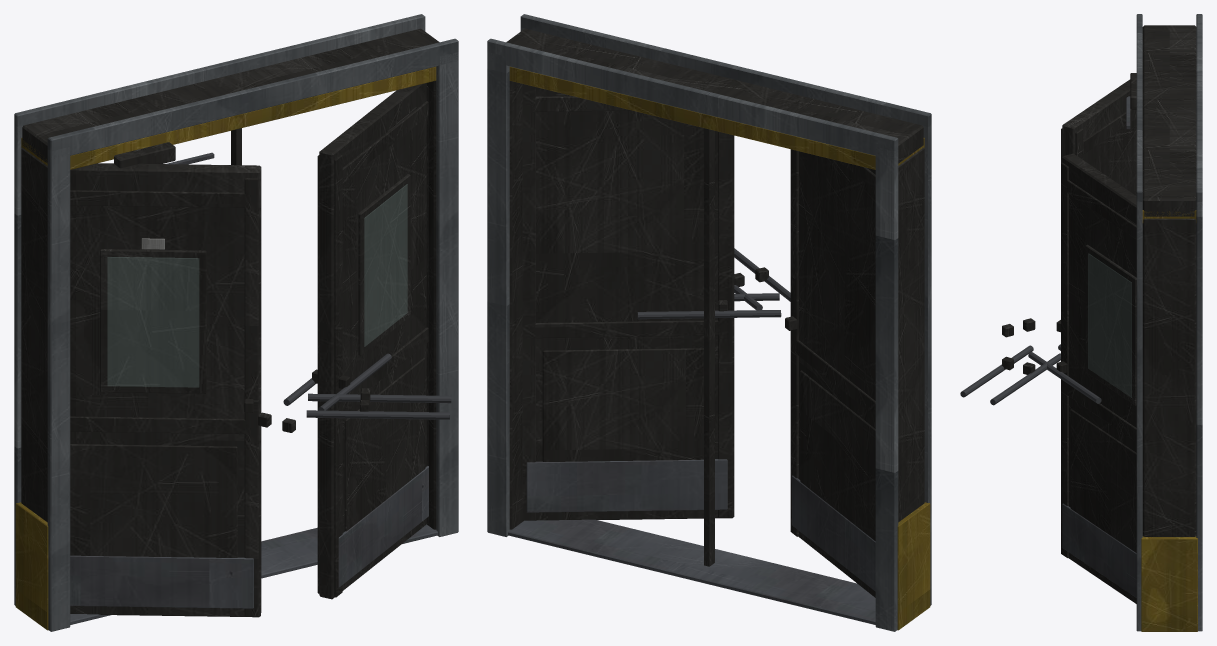
The model's file is door_dbl.glb.
The picture shows the model from 3 angles, left to right: view 1: azimuth 30°, elevation 25°; view 2: azimuth 150°, elevation 25°; view 3: azimuth 270°, elevation 25°; orthographic projection. The views are drawn at different scales.
Parts seen in each view (by area): view 1: door, frame, door2; view 2: frame, door2, door; view 3: frame, door2, door.
Boxes of the visible parts, bbox=[...] form: door: bbox=[70, 163, 451, 617]; frame: bbox=[14, 14, 458, 631]; door2: bbox=[258, 83, 428, 599]; frame: bbox=[487, 14, 931, 631]; door2: bbox=[522, 84, 781, 520]; door: bbox=[734, 149, 875, 597]; frame: bbox=[1126, 14, 1202, 631]; door2: bbox=[1002, 153, 1136, 603]; door: bbox=[960, 79, 1136, 405].
Bounding box in the file's own units: 2.05 × 2.35 × 1.17.
Materials: 6 (5 with a texture image).
